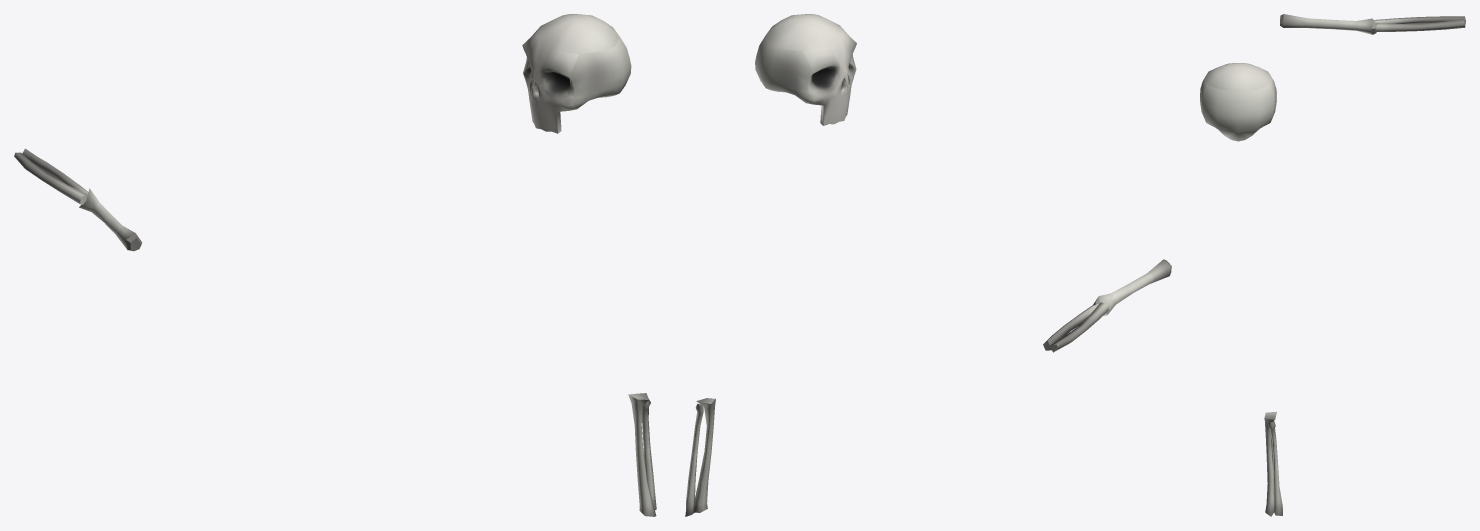
The model's file is bones.FBX.
3 renders of one model, left to right at view 1: azimuth 30°, elevation 25°; view 2: azimuth 150°, elevation 25°; view 3: azimuth 270°, elevation 25°, orthographic. The views are drawn at different scales.
Parts seen in each view (by area): view 1: Object001; view 2: Object001; view 3: Object001.
Part boxes in pixels (x1,y1,x2,y2): Object001: (14,14,656,516); Object001: (685,14,1171,516); Object001: (1200,14,1465,516).
Bounding box in the file's own units: 104 × 101 × 59.12.
Materials: 1 (1 with a texture image).
